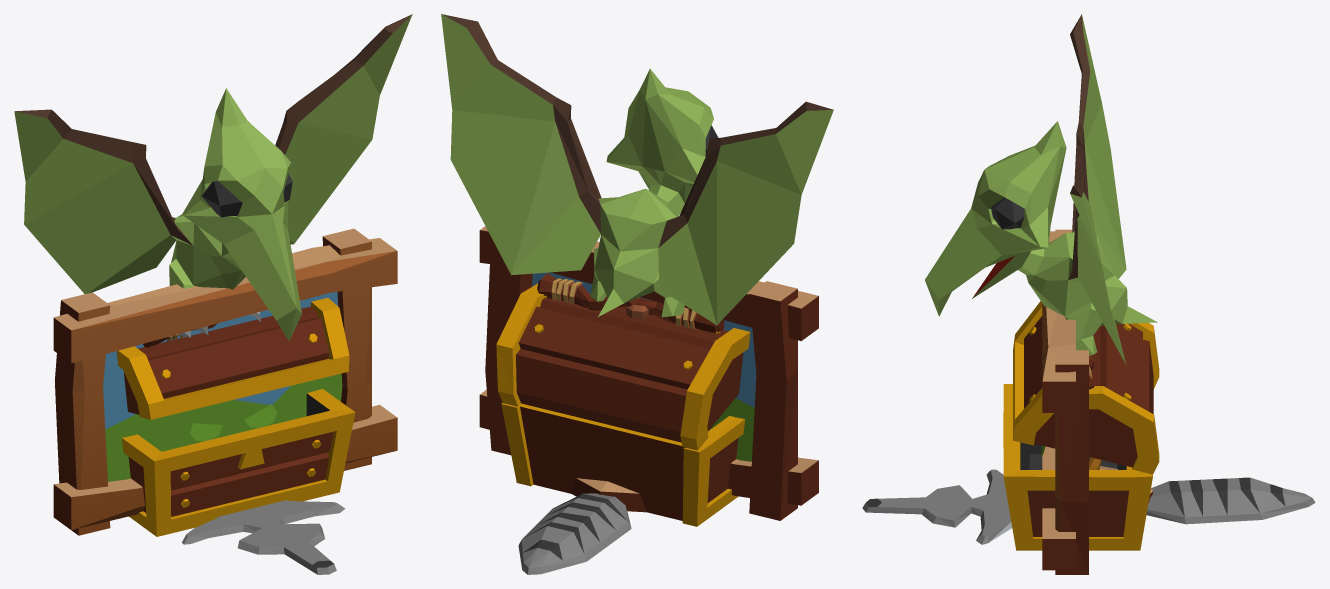
The model's file is Add_Decor.fbx.
3 renders of one model, left to right at view 1: azimuth 30°, elevation 25°; view 2: azimuth 150°, elevation 25°; view 3: azimuth 270°, elevation 25°, orthographic. The views are drawn at different scales.
Parts seen in each view (by area): view 1: Pterodaktel, picture, Chest, Skin; view 2: Pterodaktel, Chest, picture, Skin; view 3: Pterodaktel, Chest, picture, Skin.
Part boxes in pixels (x1,y1,x2,y2): Pterodaktel: (14,14,412,347); picture: (53,228,397,535); Chest: (116,297,355,536); Skin: (182,500,345,574); Pterodaktel: (441,14,833,512); Chest: (496,283,750,526); picture: (479,226,818,520); Skin: (518,493,631,574); Pterodaktel: (925,14,1157,503); Chest: (1003,301,1159,550); picture: (1042,229,1088,574); Skin: (862,469,1315,544).
Size of the model in its own units: 180 by 185 by 188.
